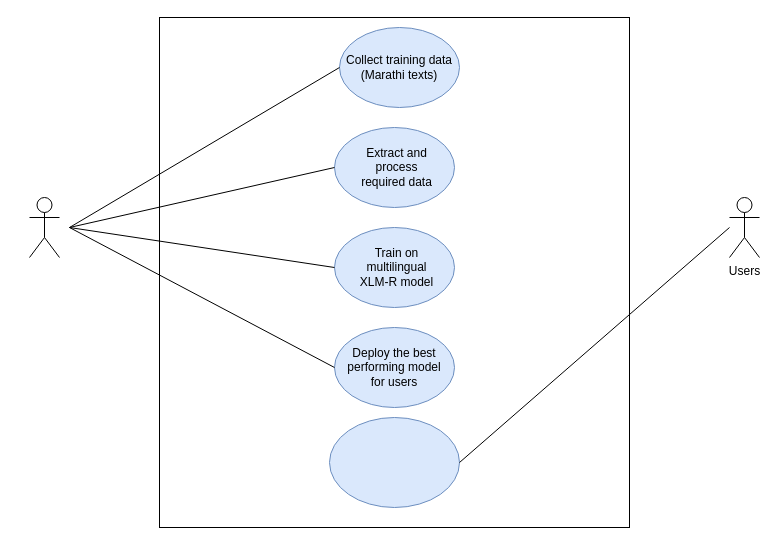
Some shapes in this 777 by 545 pixel diagram are drawn without their labels. The centre of each missing label's shape, as x and y in pixels:
"Developer" belongs at (44,227).
"Enter the text and get accurate sentiments from the texts" belongs at (394,462).
